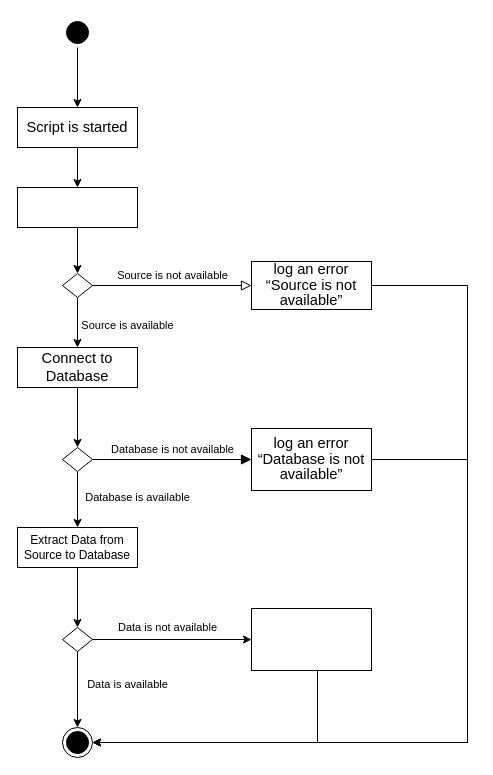
Image size: 493x775. Some labels were removed from this diagram. The shapes that lost their labels are listed below. From the top down, each one's centre as x and y in pixels, then its label:
(77,207): Connect to Source
(311,639): log an error “Data is not available”
